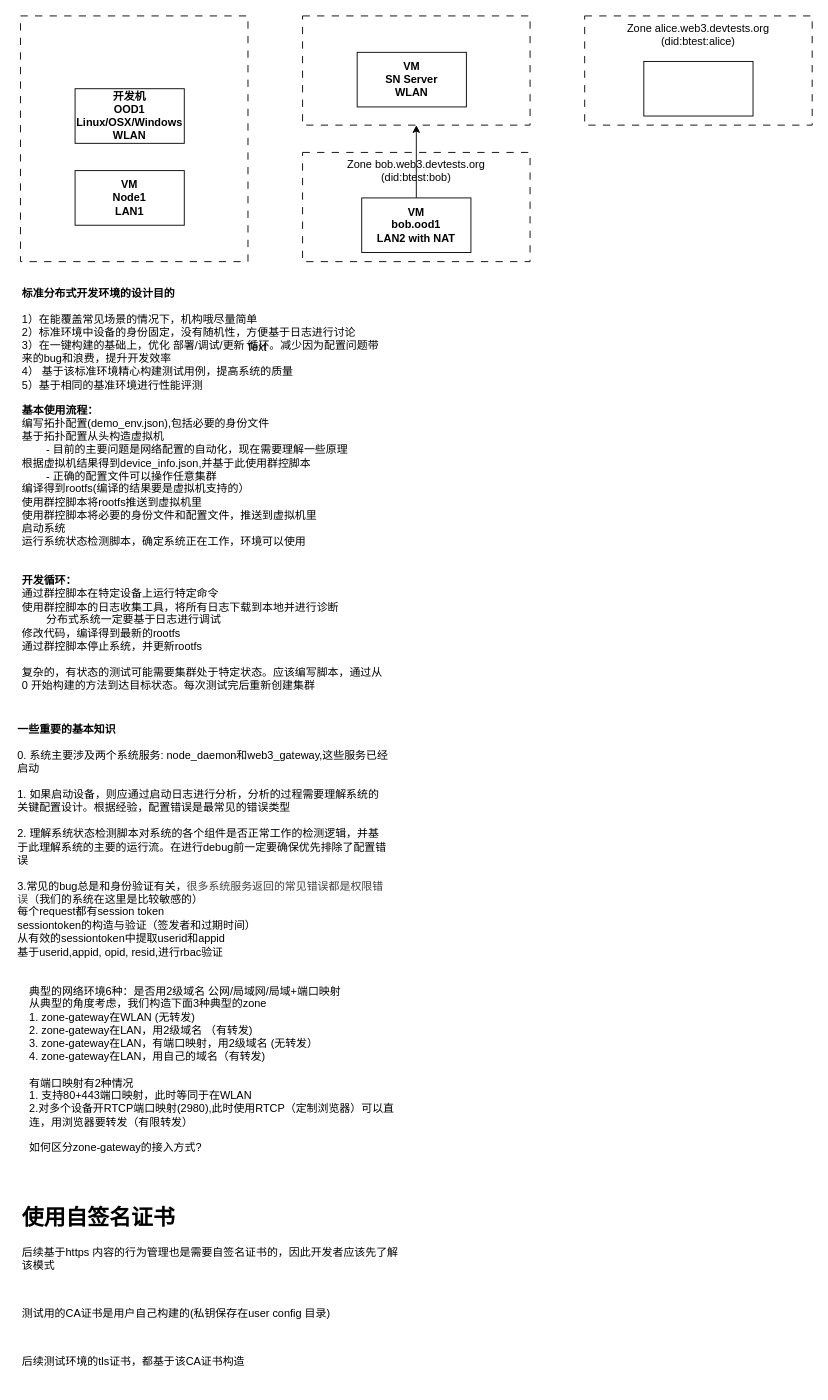
This 828x1400 diagram has some shape labels left out. Each missing label, with the box of its shape:
sn.devtests.org （web3.devtests.org): (302, 15, 530, 125)
VM alice.ood1 LAN3 with Portforward: (643, 61, 753, 116)
Zone test.buckyos.io did:web:test.buckyos.io: (20, 15, 248, 262)
